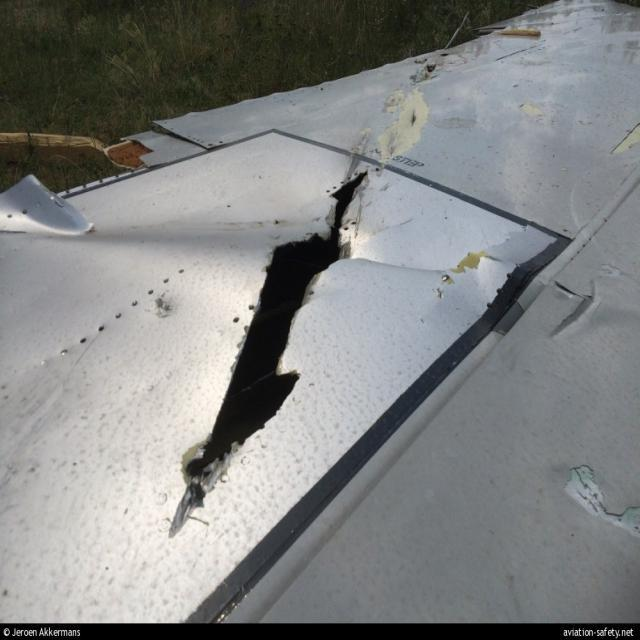crack: (168, 173, 373, 536), (410, 106, 421, 127)
